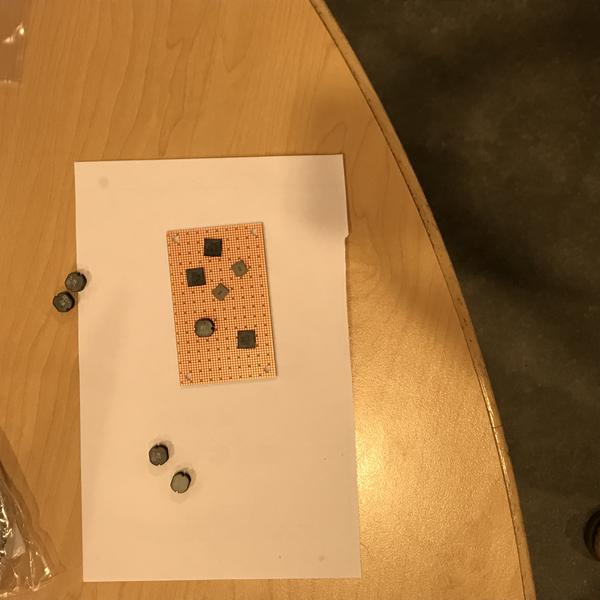board: (165, 220, 279, 389)
